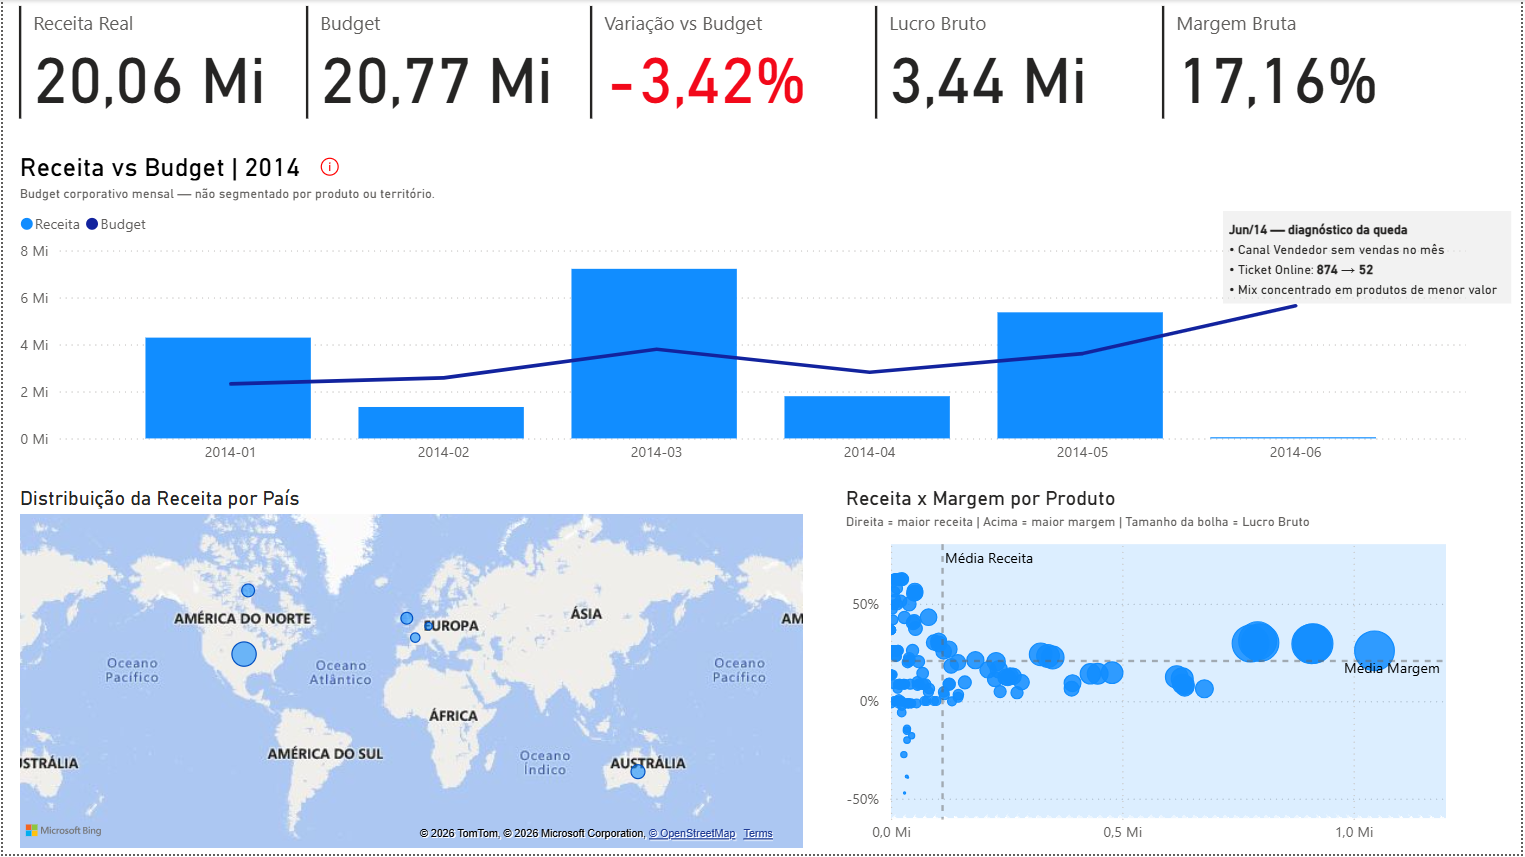

This screenshot's page, from the dashboard's own definition file:
{"tool":"powerbi","page":{"name":"Página 1","canvas":[1280,720],"ordinal":0},"visuals":[{"type":"cardVisual","fields":{"Data":["00_fx.Receita"]},"box":[8.8,0,241.5,105.4],"z":0},{"type":"cardVisual","fields":{"Data":["00_fx.Budget"]},"box":[250.2,0,240,105.4],"z":1000},{"type":"cardVisual","fields":{"Data":["00_fx.VarBudget%"]},"box":[490.2,0,240,105.4],"z":2000},{"type":"cardVisual","fields":{"Data":["00_fx.LBruto"]},"box":[730.2,0,241.5,105.4],"z":3000},{"type":"cardVisual","fields":{"Data":["00_fx.MargemBruta%"]},"box":[971.7,0,240,105.4],"z":4000},{"type":"lineStackedColumnComboChart","title":"Receita vs Budget | 2014","fields":{"Category":["DimCalendar.AnoMes"],"Y":["00_fx.Receita"],"Y2":["00_fx.Budget"]},"box":[9.3,128.1,1229.2,271.5],"z":5000},{"type":"map","title":"Distribuição da Receita por País","fields":{"Category":["DimTerritory.CodigoPais"],"Size":["00_fx.Receita"]},"box":[9,410.1,669.6,309.9],"z":6000},{"type":"actionButton","box":[263,128.1,25.7,24.8],"z":8000},{"type":"scatterChart","title":"Receita x Margem por Produto","fields":{"Category":["DimProduct.NomeProduto"],"Size":["00_fx.LBruto"],"X":["00_fx.Receita"],"Y":["00_fx.MargemBruta%"]},"box":[705.6,409.7,533,310],"z":8001},{"type":"textbox","box":[1028.6,177.9,242.8,78.4],"z":8002}]}

Visuals, with their boxes in screenshot pixels (x1, y1, x2, y2), scaled from the page's 1280x720 canvas onto the 1525x857 screenshot:
cardVisual - 00_fx.Receita: [10, 0, 298, 125]
cardVisual - 00_fx.Budget: [298, 0, 584, 125]
cardVisual - 00_fx.VarBudget%: [584, 0, 870, 125]
cardVisual - 00_fx.LBruto: [870, 0, 1158, 125]
cardVisual - 00_fx.MargemBruta%: [1158, 0, 1444, 125]
"Receita vs Budget | 2014" lineStackedColumnComboChart: [11, 152, 1476, 476]
"Distribuição da Receita por País" map: [11, 488, 808, 856]
actionButton: [313, 152, 344, 182]
"Receita x Margem por Produto" scatterChart: [841, 488, 1476, 856]
textbox: [1225, 212, 1515, 305]
